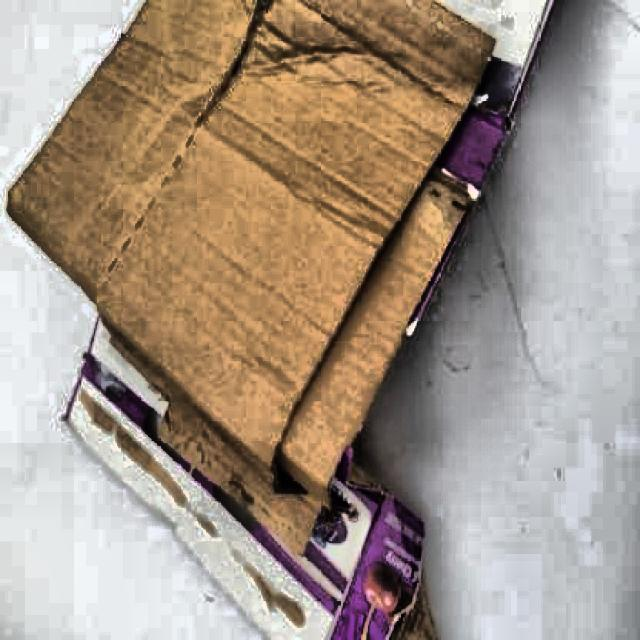Cardbox: (0, 0, 566, 640)
